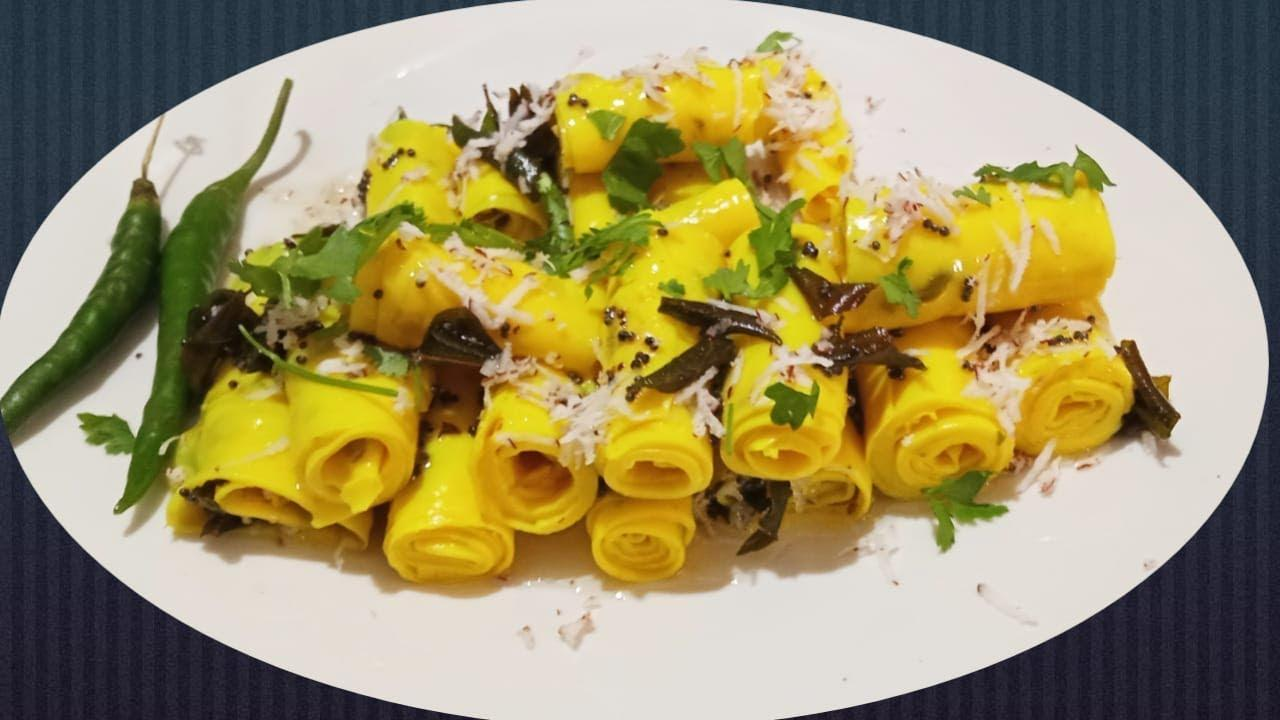khandvi: (270, 64, 1138, 598)
